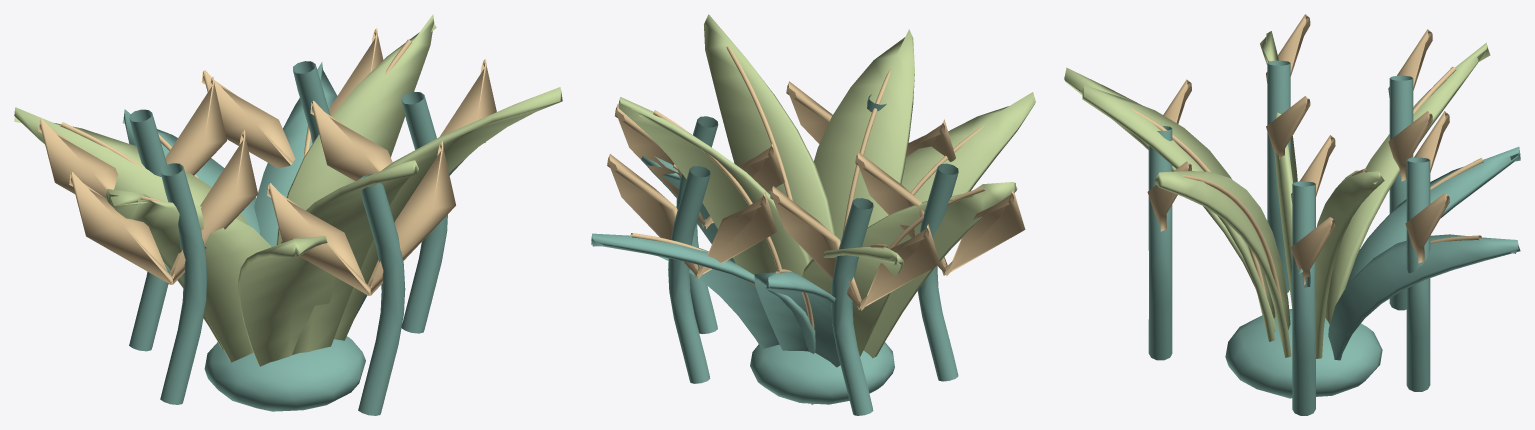
The model's file is bio_mist_leaf_07_far.glb.
3 renders of one model, left to right at view 1: azimuth 30°, elevation 25°; view 2: azimuth 150°, elevation 25°; view 3: azimuth 270°, elevation 25°, orthographic. The views are drawn at different scales.
Visible parts, largest first — view 1: Cupped condensate leaf.007, Root rosette, Cupped condensate leaf.004, Cupped condensate leaf.008, Secondary fan lobe.008, Secondary fan lobe.004, Cupped condensate leaf.002, Branching support.004, Branching support.002, Secondary fan lobe.002, Cupped condensate leaf.005, Secondary fan lobe (+7 smaller); view 2: Cupped condensate leaf.002, Cupped condensate leaf.005, Cupped condensate leaf.008, Cupped condensate leaf.003, Cupped condensate leaf.004, Root rosette, Cupped condensate leaf.007, Secondary fan lobe.006, Secondary fan lobe.002, Secondary fan lobe.008, Branching support.001, Branching support.003 (+11 smaller); view 3: Root rosette, Cupped condensate leaf.003, Cupped condensate leaf.005, Cupped condensate leaf.002, Cupped condensate leaf.001, Branching support, Branching support.003, Branching support.002, Cupped condensate leaf.006, Cupped condensate leaf.008, Branching support.004, Cupped condensate leaf.004 (+9 smaller).
Part boxes in pixels (box(x1,y1,x2,y2)): Cupped condensate leaf.007: box(238, 236, 335, 366); Root rosette: box(204, 336, 365, 411); Cupped condensate leaf.004: box(105, 189, 271, 362); Cupped condensate leaf.008: box(276, 14, 436, 245); Secondary fan lobe.008: box(69, 130, 258, 284); Secondary fan lobe.004: box(267, 141, 455, 295); Cupped condensate leaf.002: box(281, 160, 418, 354); Branching support.004: box(160, 163, 207, 404); Branching support.002: box(358, 174, 405, 415); Secondary fan lobe.002: box(38, 76, 226, 197); Cupped condensate leaf.005: box(334, 87, 562, 340); Secondary fan lobe: box(310, 59, 496, 181); Cupped condensate leaf.002: box(814, 29, 914, 241); Cupped condensate leaf.005: box(704, 14, 835, 261); Cupped condensate leaf.008: box(618, 97, 809, 276); Cupped condensate leaf.003: box(591, 233, 815, 353); Cupped condensate leaf.004: box(862, 182, 1017, 358); Root rosette: box(750, 342, 894, 404); Cupped condensate leaf.007: box(901, 92, 1035, 202); Secondary fan lobe.006: box(607, 154, 776, 278); Secondary fan lobe.002: box(770, 186, 939, 310); Secondary fan lobe.008: box(855, 151, 1025, 275); Branching support.001: box(831, 198, 873, 415); Branching support.003: box(668, 166, 710, 383); Root rosette: box(1225, 309, 1382, 398); Cupped condensate leaf.003: box(1328, 234, 1520, 360); Cupped condensate leaf.005: box(1154, 171, 1291, 357); Cupped condensate leaf.002: box(1082, 85, 1275, 341); Cupped condensate leaf.001: box(1325, 42, 1490, 324); Branching support: box(1292, 181, 1315, 415); Branching support.003: box(1406, 157, 1430, 391); Branching support.002: box(1148, 126, 1172, 360); Cupped condensate leaf.006: box(1346, 146, 1520, 286); Cupped condensate leaf.008: box(1316, 170, 1384, 396); Branching support.004: box(1267, 60, 1290, 292); Cupped condensate leaf.004: box(1260, 31, 1297, 307).
Size of the model in its own units: 1.85 by 1.3 by 1.74.
